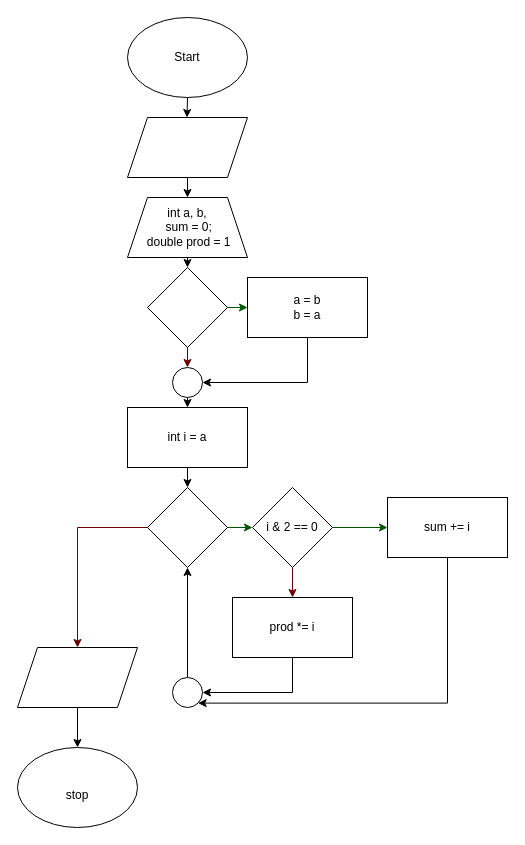
The diagram is 525 pixels wide and 845 high, and some of its shapes have lost their labels. Each missing label, with the box of its shape:
"Introduceti nr reale a , b": (126, 116, 248, 178)
"numarul = %d, produsul = %.0lf", suma,produsul: (16, 646, 138, 708)
a > b: (146, 266, 228, 348)
i < = b: (146, 486, 228, 568)
